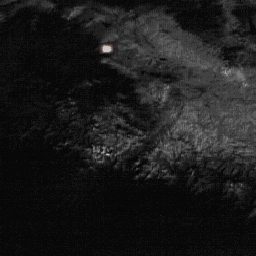Target: (98, 43, 112, 53)
